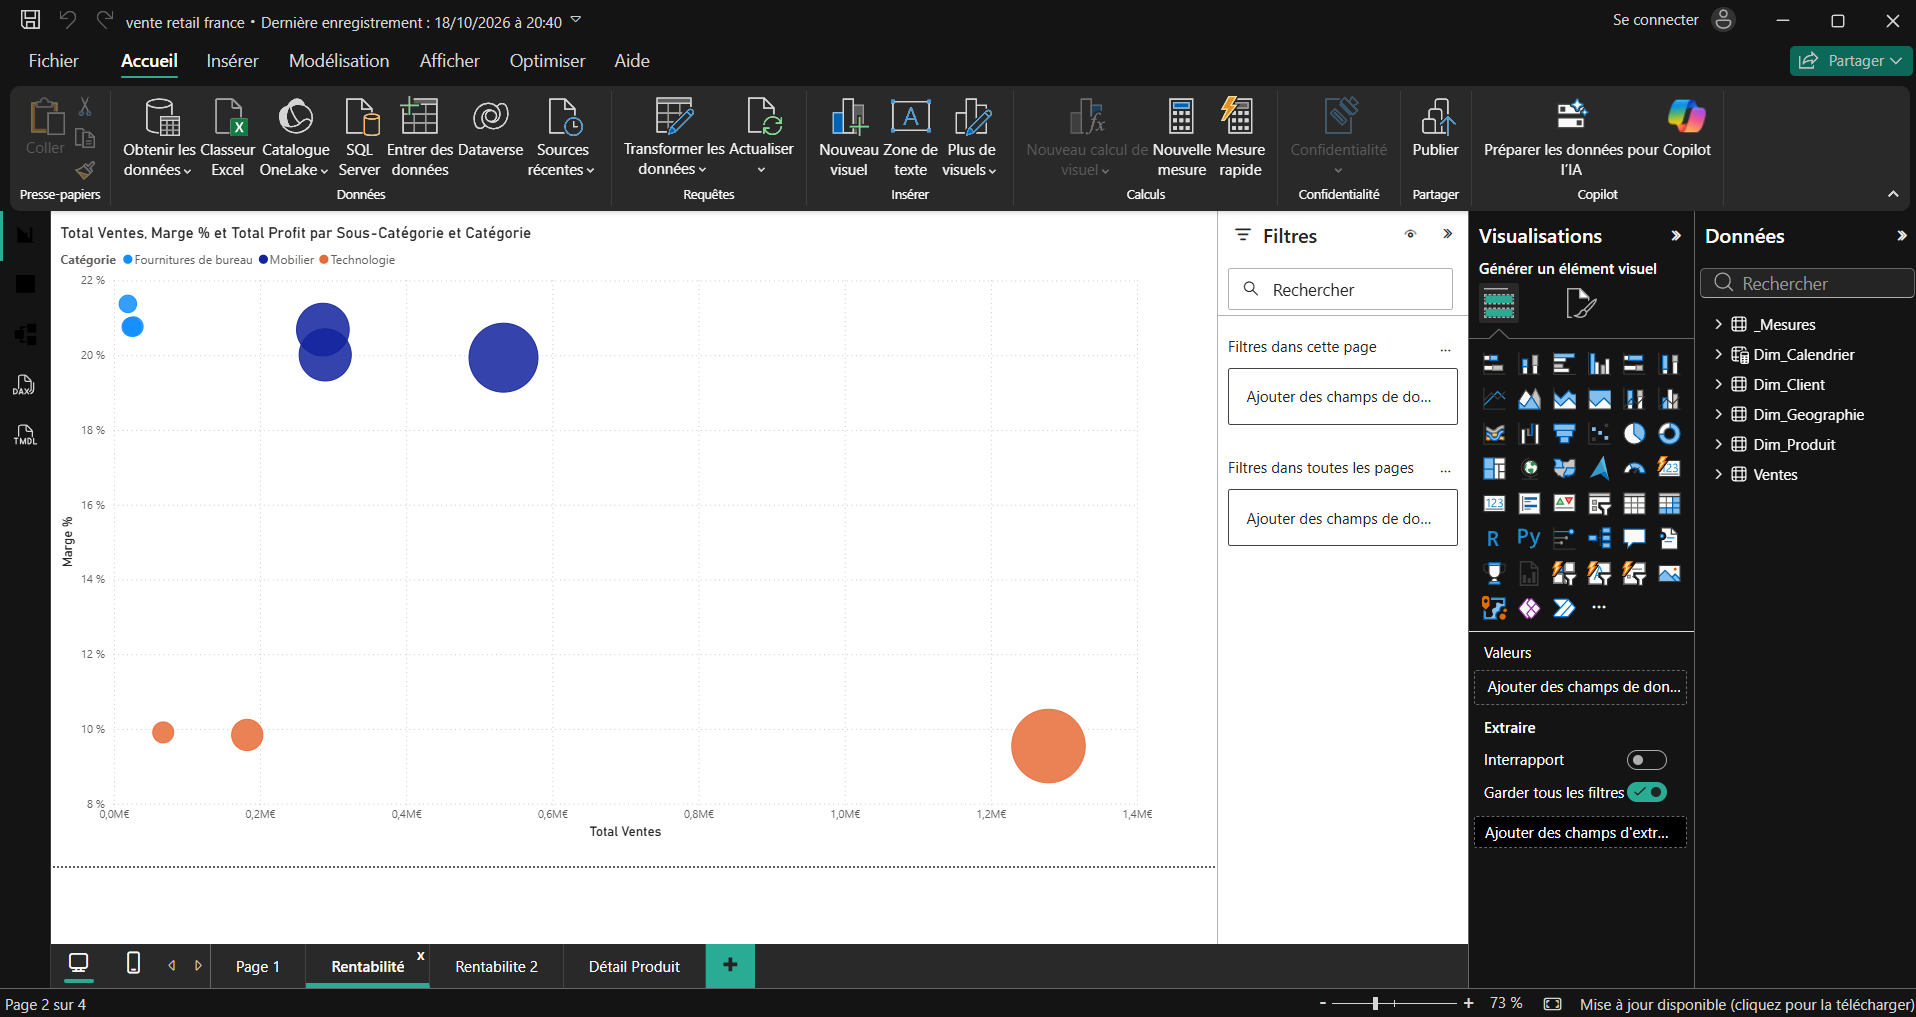

What the dashboard file says about the page in this screenshot:
{"tool":"powerbi","page":{"name":"Rentabilité","canvas":[1280,720],"ordinal":1},"visuals":[{"type":"scatterChart","fields":{"Category":["Dim_Produit.Sous-Catégorie"],"X":["_Mesures.Total Ventes"],"Y":["_Mesures.Marge %"],"Series":["Dim_Produit.Catégorie"],"Size":["_Mesures.Total Profit"]},"box":[5.5,13.7,1208.9,680.6],"z":0}]}

Visuals, with their boxes on the page's 1280x720 design canvas (x1, y1, x2, y2). These are canvas units, not pixel positions in the 1916x1017 screenshot, which may show the page scaled, cropped or inside an application window:
scatterChart - Dim_Produit.Sous-Catégorie x _Mesures.Total Ventes: box=[6, 14, 1214, 694]
